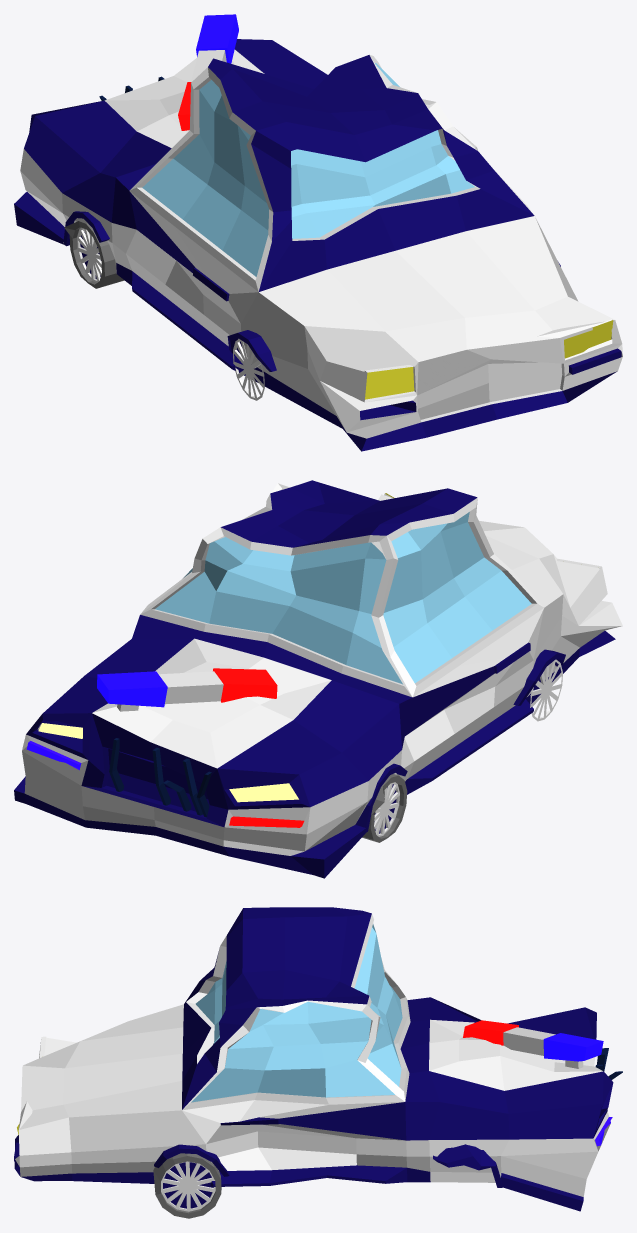
File: Police_car_Destroyed.fbx
3 renders of one model, top to bottom at view 1: azimuth 30°, elevation 25°; view 2: azimuth 150°, elevation 25°; view 3: azimuth 270°, elevation 25°, orthographic. The views are drawn at different scales.
Visible parts, largest first — view 1: headlight.004; view 2: headlight.004; view 3: headlight.004.
Boxes of the visible parts, x1,y1,x2,y2 form: headlight.004: (14,14,622,451); headlight.004: (14,480,622,878); headlight.004: (14,907,622,1218).
Bounding box in the file's own units: 143 × 107 × 280.
